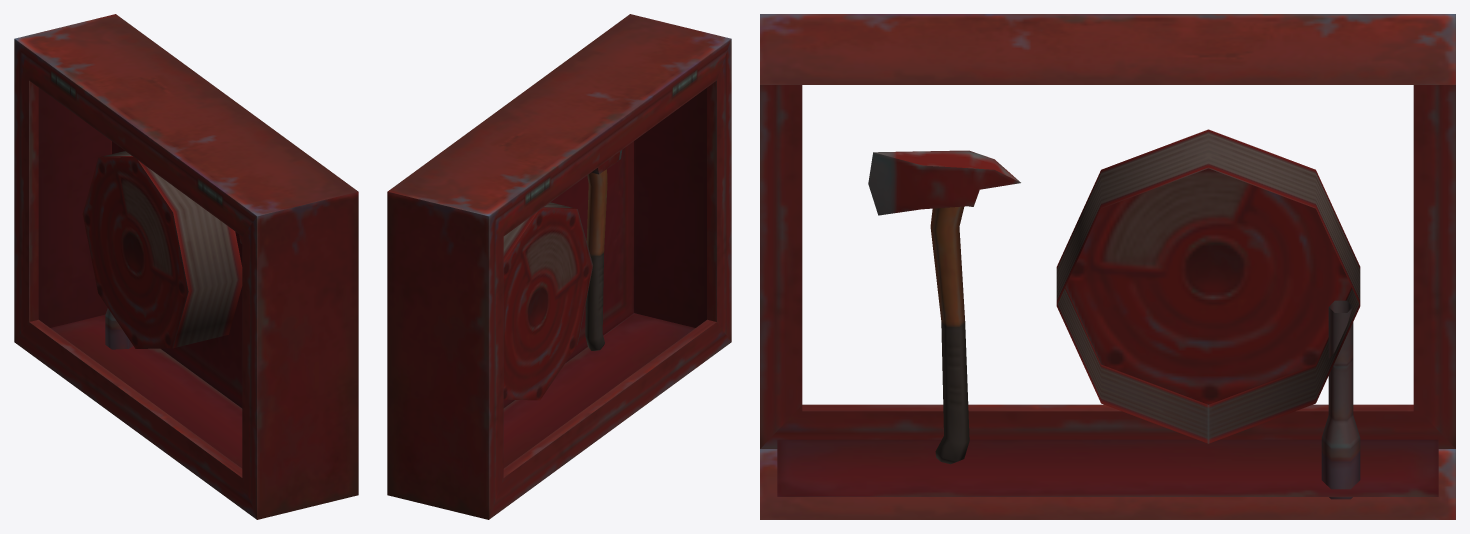
Rendered from mi_xiangfangxiang.FBX.
3 renders of one model, left to right at view 1: azimuth 30°, elevation 25°; view 2: azimuth 150°, elevation 25°; view 3: azimuth 270°, elevation 25°, orthographic. The views are drawn at different scales.
Visible parts, largest first — view 1: mi_xiangfangxiang; view 2: mi_xiangfangxiang; view 3: mi_xiangfangxiang.
Boxes of the visible parts, x1,y1,x2,y2 form: mi_xiangfangxiang: [14, 14, 358, 519]; mi_xiangfangxiang: [387, 14, 731, 519]; mi_xiangfangxiang: [760, 14, 1455, 519].
Bounding box in the file's own units: 0.3053 × 0.8734 × 1.27.
1 material, 1 textured.
